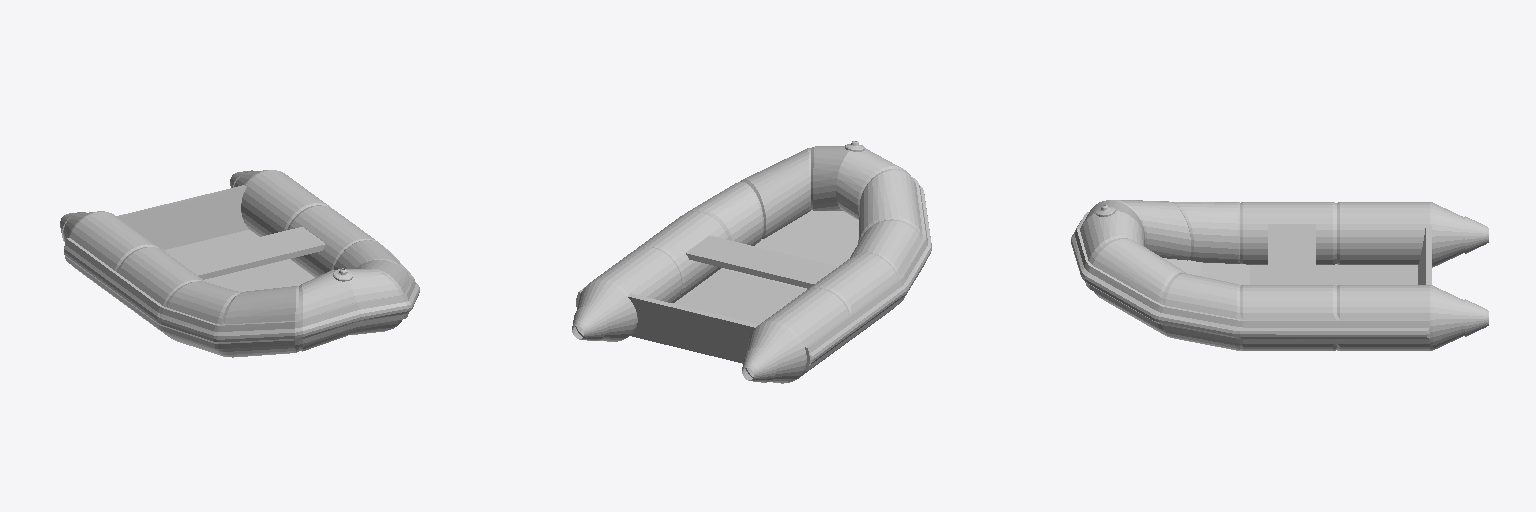
File: dinghy.obj
3 renders of one model, left to right at view 1: azimuth 30°, elevation 25°; view 2: azimuth 150°, elevation 25°; view 3: azimuth 270°, elevation 25°, orthographic.
Bounding box in the file's own units: 0.0854 × 0.0349 × 0.1305.